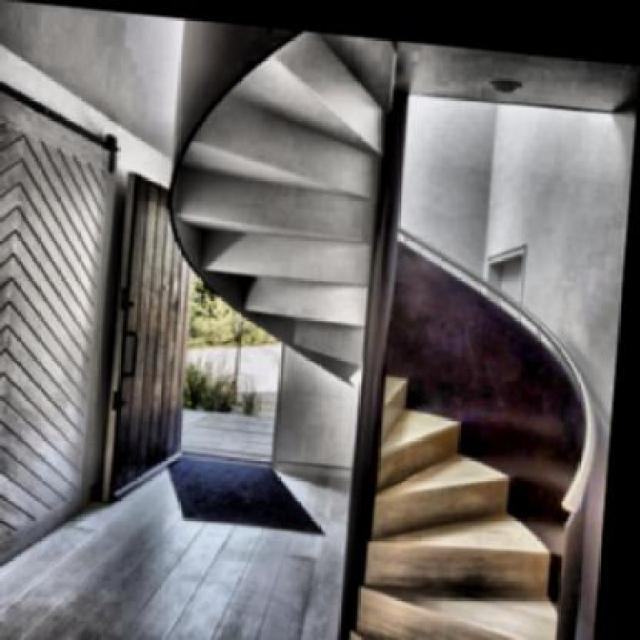stair: (348, 360, 606, 638)
